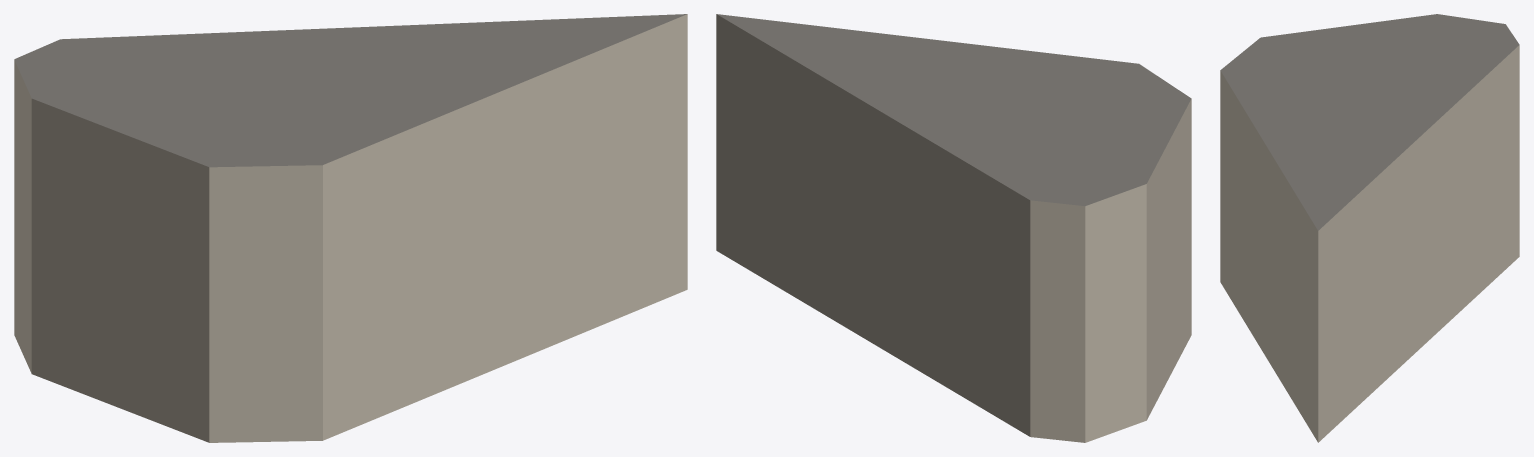
3 renders of one model, left to right at view 1: azimuth 30°, elevation 25°; view 2: azimuth 150°, elevation 25°; view 3: azimuth 270°, elevation 25°, orthographic. The views are drawn at different scales.
Visible parts, largest first — view 1: HP-w1196713223; view 2: HP-w1196713223; view 3: HP-w1196713223.
Part boxes in pixels (left/top/right/bottom): HP-w1196713223: left=14, top=14, right=687, bottom=442; HP-w1196713223: left=716, top=14, right=1191, bottom=442; HP-w1196713223: left=1220, top=14, right=1519, bottom=442.
Bounding box in the file's own units: 26.36 × 12 × 15.36.
